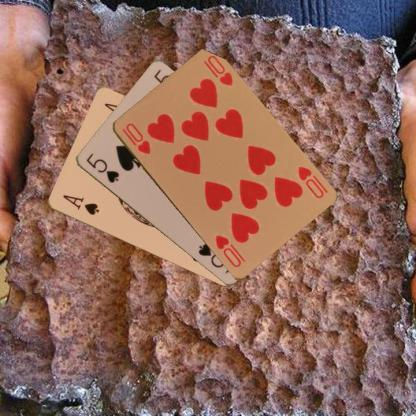10h: (119, 120, 152, 156), (294, 163, 324, 200)
5s: (83, 150, 120, 184)
As: (60, 192, 100, 216)
